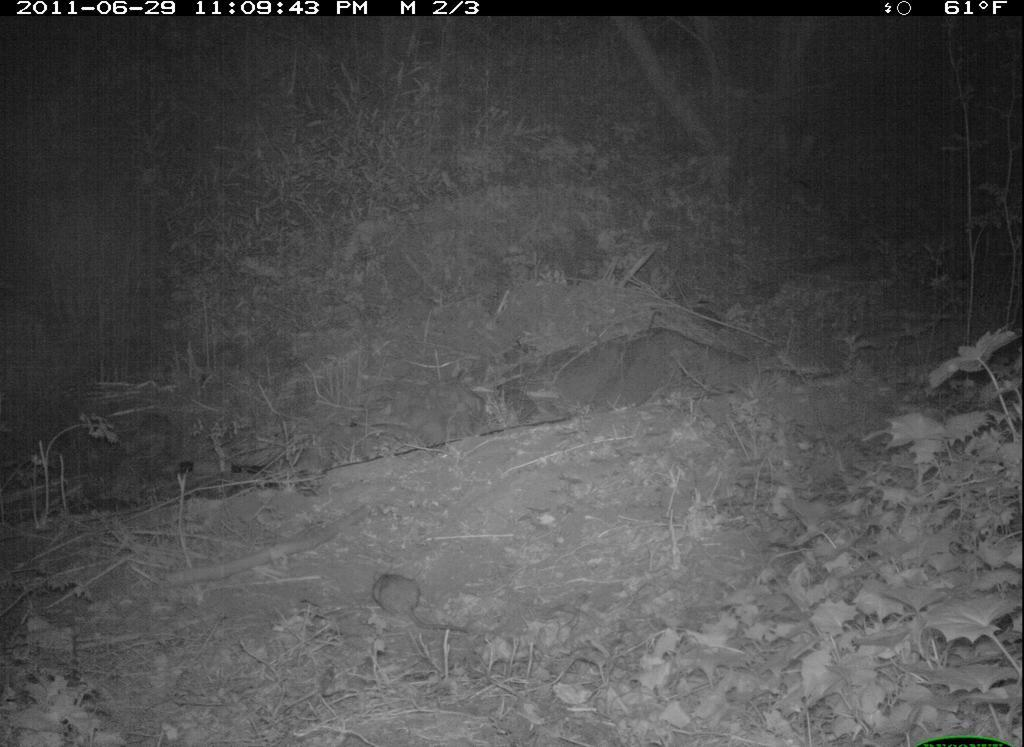rodent: (366, 564, 472, 638)
